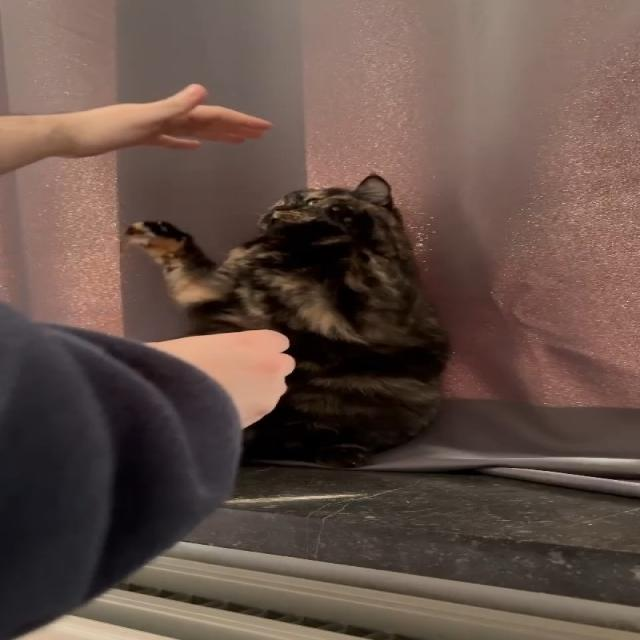authorized: (121, 173, 452, 469)
